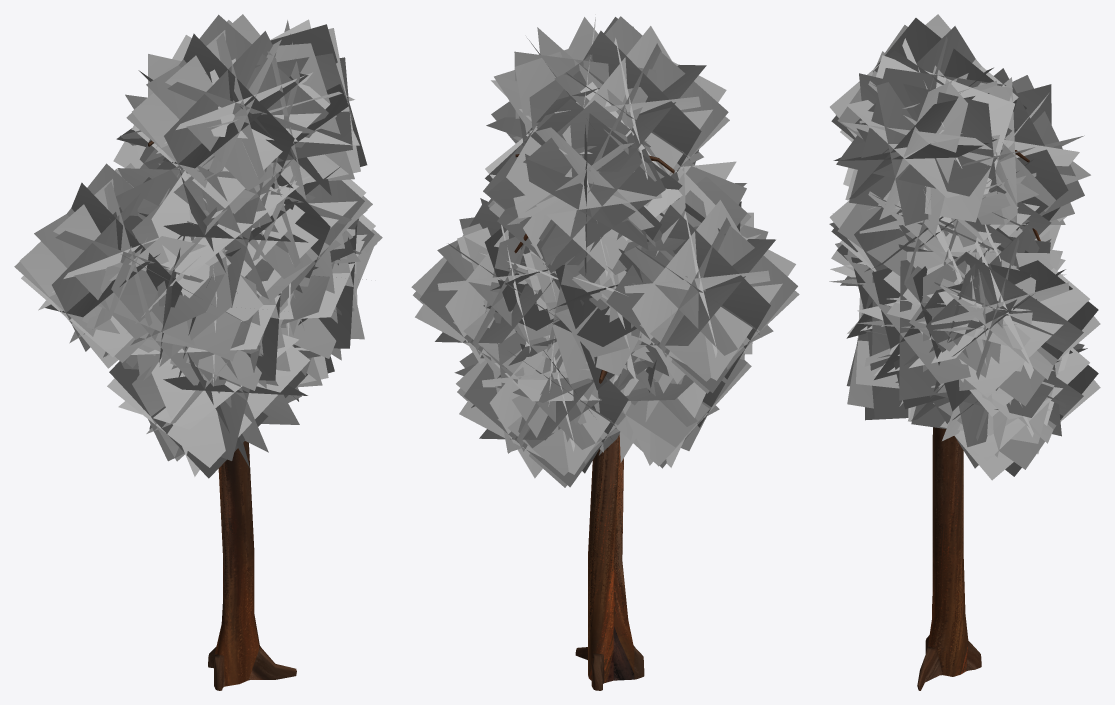
File: town tree3.fbx
The picture shows the model from 3 angles, left to right: view 1: azimuth 30°, elevation 25°; view 2: azimuth 150°, elevation 25°; view 3: azimuth 270°, elevation 25°; orthographic projection. The views are drawn at different scales.
Parts seen in each view (by area): view 1: leaves, tree; view 2: leaves, tree; view 3: leaves, tree.
Boxes of the visible parts, bbox=[...] form: leaves: bbox=[14, 14, 382, 478]; tree: bbox=[148, 140, 296, 690]; leaves: bbox=[411, 14, 799, 487]; tree: bbox=[514, 154, 674, 690]; leaves: bbox=[829, 14, 1100, 480]; tree: bbox=[917, 150, 1040, 690].
Size of the model in its own units: 542 by 984 by 381.
